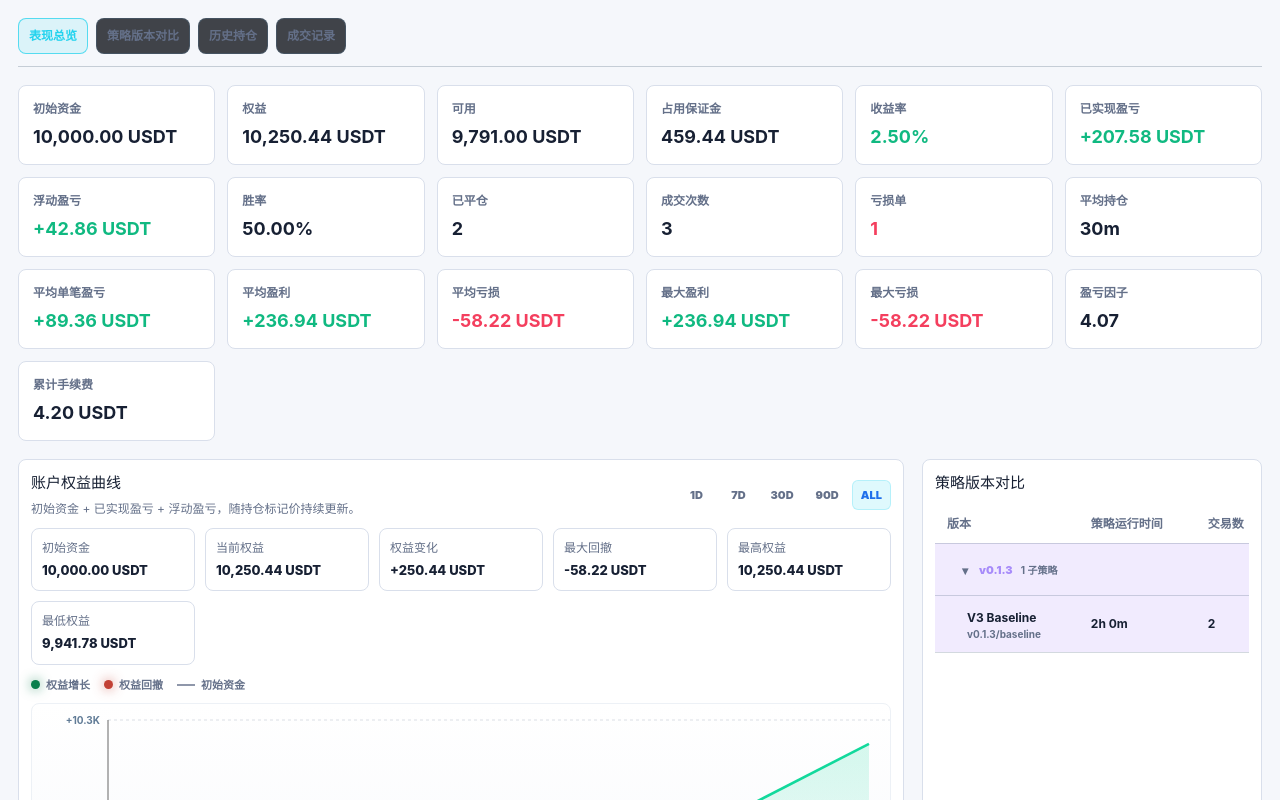
it: App › groups strategy attribution by stored primary signal instead of session tags
This screenshot has width=1280, height=800.
Click the button "策略版本对比": point(143, 36) [96, 18, 190, 54]
(page scrolled)
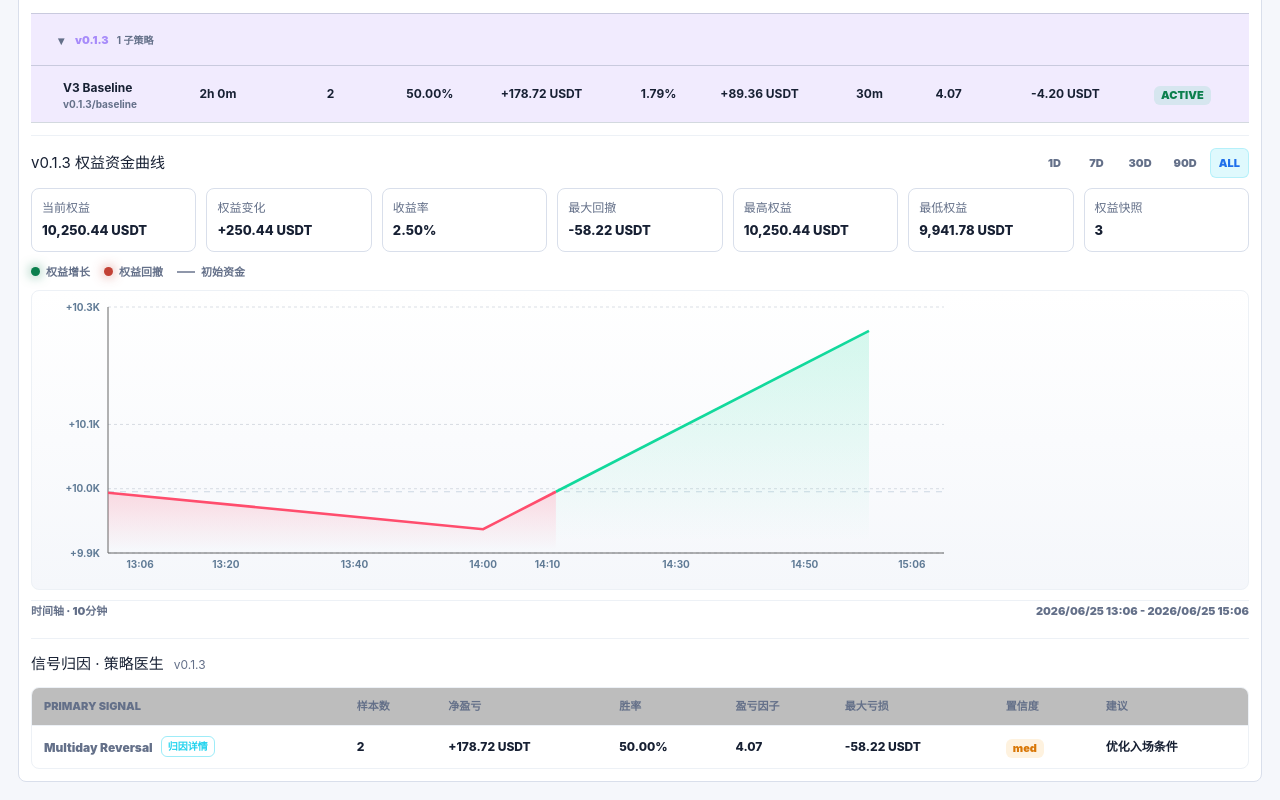
Expected: the element with test id "paper-strategy-doctor" does not show "US equity open risk", [31, 638, 1249, 768]
Expected: the element with test id "paper-strategy-doctor" shows "Multiday Reversal", [44, 736, 215, 757]
Expected: the element with test id "paper-strategy-doctor" shows "+178.72 USDT", [448, 738, 531, 754]
